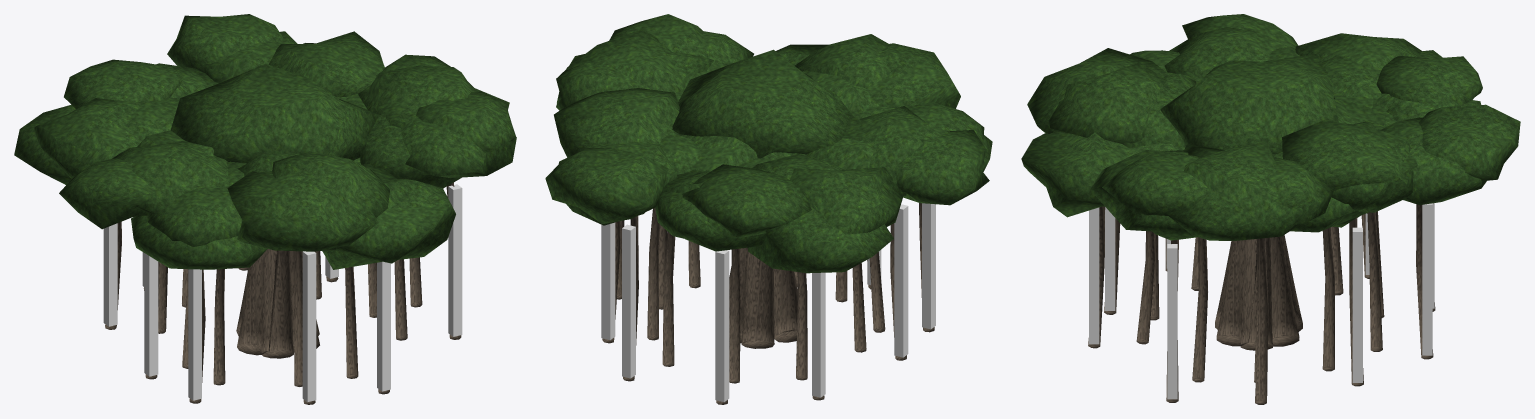
The model's file is banyan_giant.glb.
The picture shows the model from 3 angles, left to right: view 1: azimuth 30°, elevation 25°; view 2: azimuth 150°, elevation 25°; view 3: azimuth 270°, elevation 25°; orthographic projection. The views are drawn at different scales.
Parts seen in each view (by area): view 1: BanyanCrown, BanyanTrunk, Root-convcolonly.007, Root-convcolonly.009, Root-convcolonly.006, Root-convcolonly.008, Root-convcolonly.005, Root-convcolonly.004; view 2: BanyanCrown, BanyanTrunk, Root-convcolonly.003, Root-convcolonly.005, Root-convcolonly.002, Root-convcolonly.006, Root-convcolonly.004, Root-convcolonly.001; view 3: BanyanCrown, BanyanTrunk, Root-convcolonly.009, Root-convcolonly.001, Root-convcolonly.002, Root-convcolonly.008, Root-convcolonly.007.
Boxes of the visible parts, x1,y1,x2,y2 form: BanyanCrown: (14, 14, 516, 269); BanyanTrunk: (105, 182, 461, 404); Root-convcolonly.007: (302, 251, 316, 402); Root-convcolonly.009: (448, 184, 462, 336); Root-convcolonly.006: (188, 269, 201, 400); Root-convcolonly.008: (377, 261, 390, 391); Root-convcolonly.005: (144, 253, 158, 376); Root-convcolonly.004: (103, 223, 117, 326); BanyanCrown: (545, 14, 992, 273); BanyanTrunk: (602, 203, 934, 404); Root-convcolonly.003: (715, 250, 729, 402); Root-convcolonly.005: (894, 204, 908, 357); Root-convcolonly.002: (622, 224, 635, 378); Root-convcolonly.006: (922, 203, 935, 329); Root-convcolonly.004: (812, 272, 825, 397); Root-convcolonly.001: (601, 222, 615, 340); BanyanCrown: (1021, 14, 1520, 240); BanyanTrunk: (1088, 204, 1435, 404); Root-convcolonly.009: (1167, 244, 1177, 399); Root-convcolonly.001: (1352, 227, 1362, 382); Root-convcolonly.002: (1422, 203, 1432, 355); Root-convcolonly.008: (1089, 207, 1099, 344); Root-convcolonly.007: (1105, 207, 1115, 310).
Size of what is drawn, in the model's own units: 38.6 by 22.63 by 38.39.
Materials: 2 (2 with a texture image).
